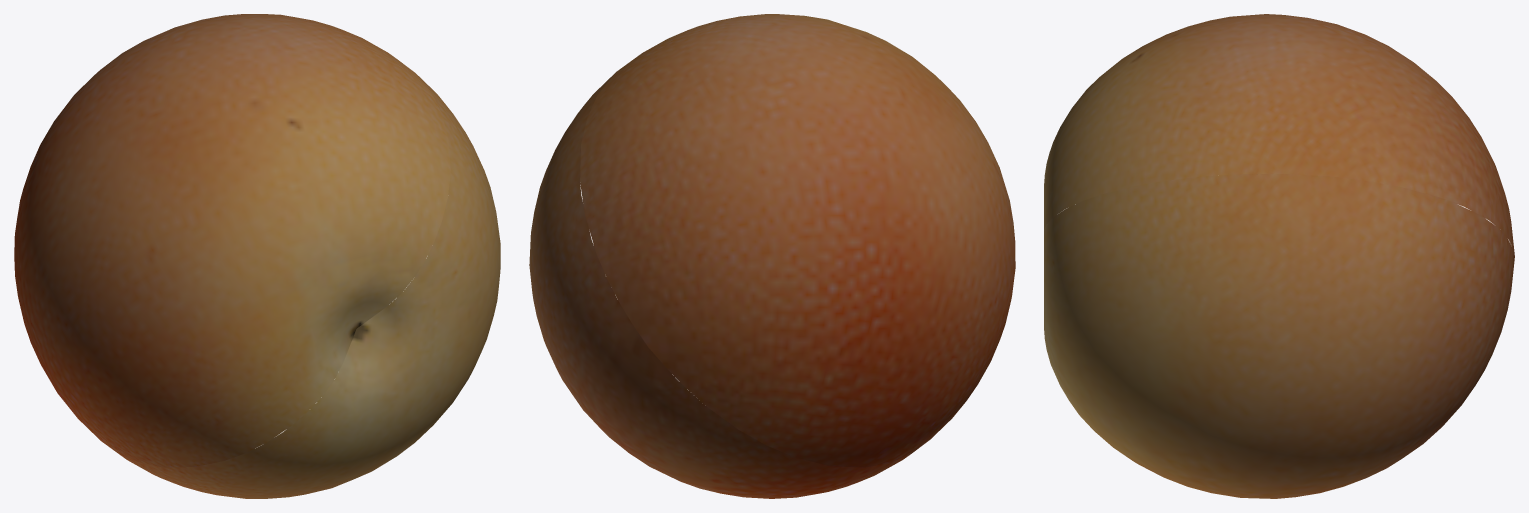
File: textured.vis.glb
3 renders of one model, left to right at view 1: azimuth 30°, elevation 25°; view 2: azimuth 150°, elevation 25°; view 3: azimuth 270°, elevation 25°, orthographic.
Parts seen in each view (by area): view 1: Sphere_002_blood_orange_whole_0_005-mesh; view 2: Sphere_002_blood_orange_whole_0_005-mesh; view 3: Sphere_002_blood_orange_whole_0_005-mesh.
Part boxes in pixels (bbox=[...]): Sphere_002_blood_orange_whole_0_005-mesh: bbox=[14, 14, 500, 498]; Sphere_002_blood_orange_whole_0_005-mesh: bbox=[529, 14, 1015, 498]; Sphere_002_blood_orange_whole_0_005-mesh: bbox=[1044, 14, 1514, 498].
Bounding box in the file's own units: 0.07 × 0.07 × 0.068.
Materials: 1 (1 with a texture image).
